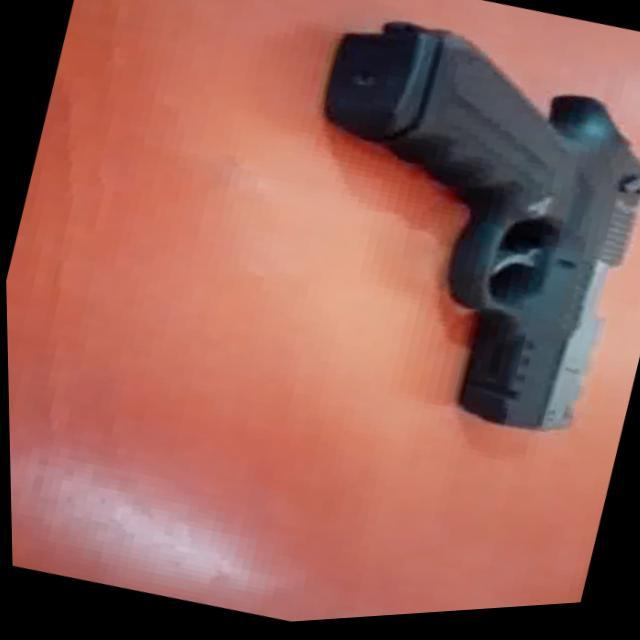weapon: (246, 0, 640, 468)
